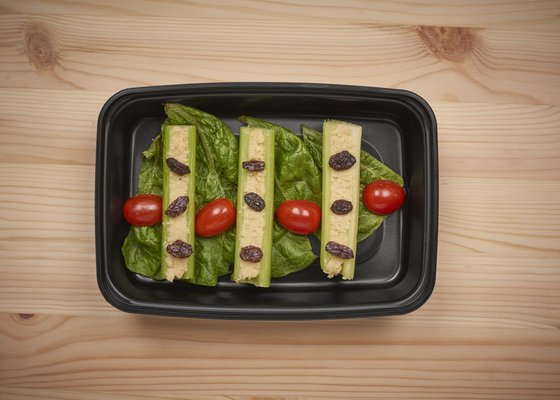curry: (26, 2, 559, 391)
